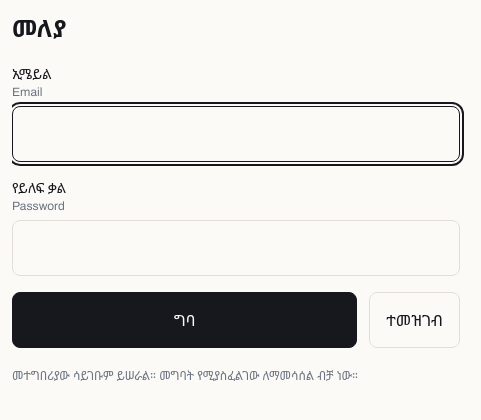
Test: sign-in errors › says "wrong email or password" in Amharic, not Supabase's English
In the field labelled "ኢሜይል": (236, 134) [12, 106, 460, 162], type "a@b.et"
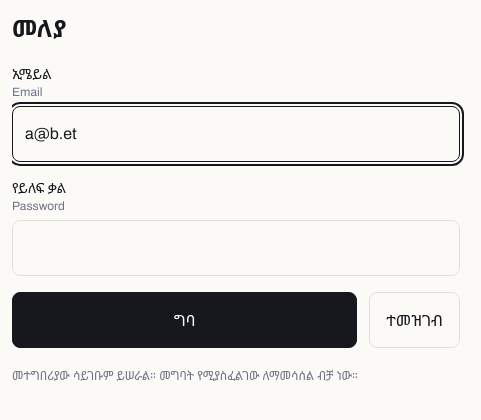
In the password field labelled "የይለፍ ቃል": (236, 248) [12, 220, 460, 276], type "x"
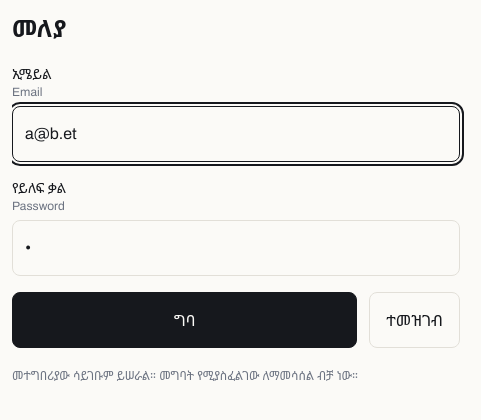
Click the button "ግባ": click(185, 320) [12, 292, 357, 348]
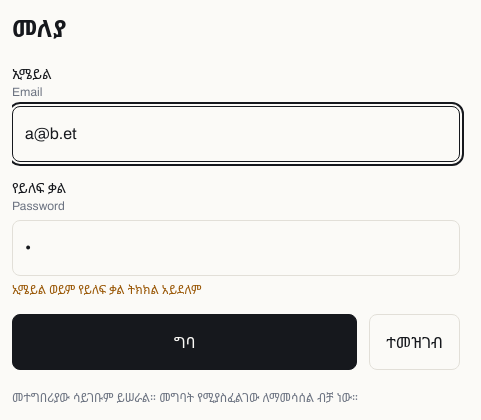
Expected: the text "ኢሜይል ወይም የይለፍ ቃል ትክክል አይደለም" is shown, [12, 281, 201, 298]
